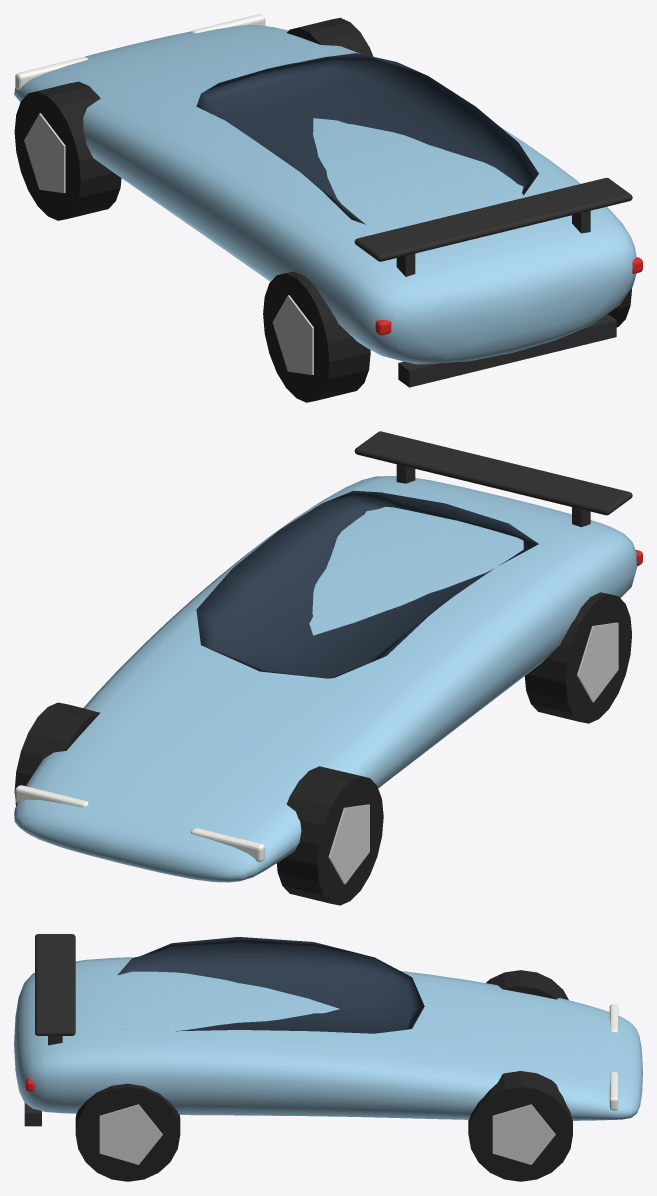
The model's file is car.glb.
3 views of the same model, one above another, from view 1: azimuth 30°, elevation 25°; view 2: azimuth 150°, elevation 25°; view 3: azimuth 270°, elevation 25° (orthographic). The views are drawn at different scales.
Parts seen in each view (by area): view 1: body.001, cabin, tyre_FR, spoiler, tyre_RR, diffuser, rim_FR, rim_RR, tyre_FL, headlight; view 2: body.001, cabin, tyre_FR, spoiler, tyre_RR, tyre_FL, rim_RR, rim_FR, headlight, headlight.001; view 3: body.001, cabin, tyre_FL, tyre_RL, spoiler, rim_RL, rim_FL, tyre_FR.
Boxes of the visible parts, box(x1,y1,x2,y2) form: body.001: box(14, 25, 636, 364); cabin: box(196, 53, 538, 224); tyre_FR: box(14, 81, 121, 220); spoiler: box(354, 177, 632, 261); tyre_RR: box(263, 271, 370, 402); diffuser: box(398, 314, 616, 387); rim_FR: box(24, 113, 65, 193); rim_RR: box(272, 295, 313, 374); tyre_FL: box(287, 17, 373, 56); headlight: box(15, 57, 88, 90); body.001: box(14, 476, 637, 882); cabin: box(196, 490, 538, 678); tyre_FR: box(276, 766, 383, 905); spoiler: box(354, 431, 632, 515); tyre_RR: box(524, 592, 631, 723); tyre_FL: box(14, 702, 100, 805); rim_RR: box(577, 622, 618, 702); rim_FR: box(328, 804, 369, 884); headlight: box(191, 828, 265, 862); headlight.001: box(15, 785, 88, 807); body.001: box(14, 957, 642, 1120); cabin: box(117, 937, 424, 1033); tyre_FL: box(468, 1071, 572, 1181); tyre_RL: box(75, 1083, 180, 1181); spoiler: box(35, 934, 75, 1035); rim_RL: box(99, 1104, 162, 1164); rim_FL: box(492, 1104, 555, 1164); tyre_FR: box(486, 970, 568, 999).
Bounding box in the file's own units: 1.92 × 1.27 × 4.32.
